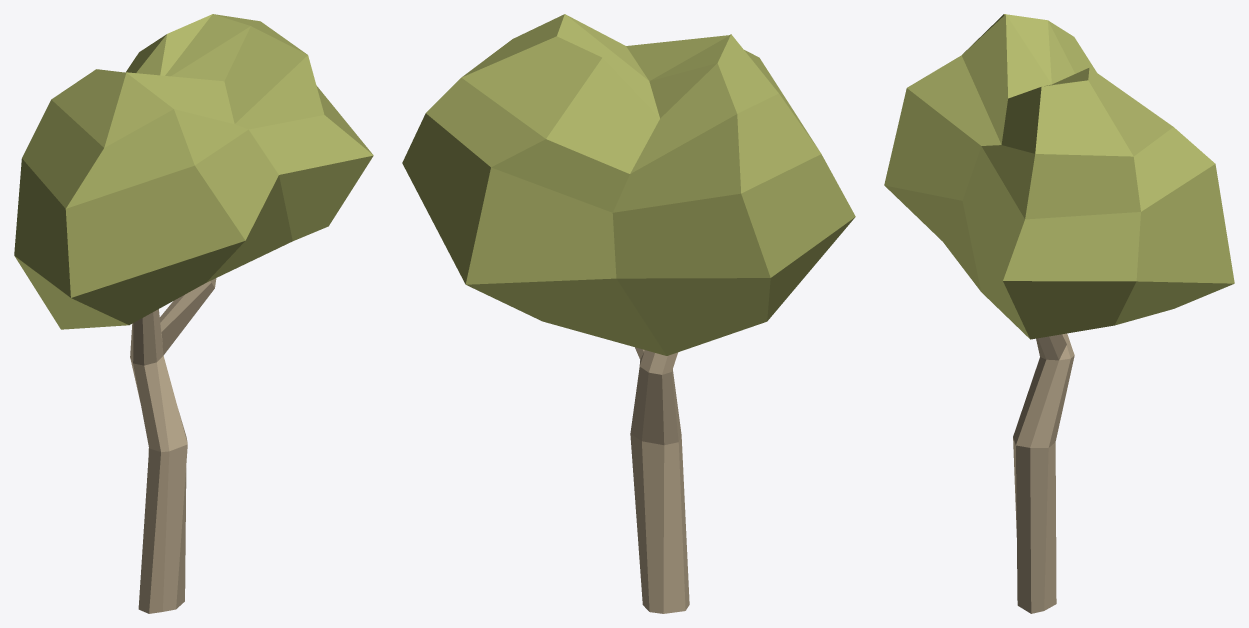
File: Tree_oak_2.fbx
3 renders of one model, left to right at view 1: azimuth 30°, elevation 25°; view 2: azimuth 150°, elevation 25°; view 3: azimuth 270°, elevation 25°, orthographic. The views are drawn at different scales.
Parts seen in each view (by area): view 1: Tree_oak_2; view 2: Tree_oak_2; view 3: Tree_oak_2.
Part boxes in pixels (x1,y1,x2,y2): Tree_oak_2: (14, 14, 373, 613); Tree_oak_2: (402, 14, 855, 613); Tree_oak_2: (884, 14, 1234, 613).
Bounding box in the file's own units: 0.1361 × 0.2112 × 0.119.
